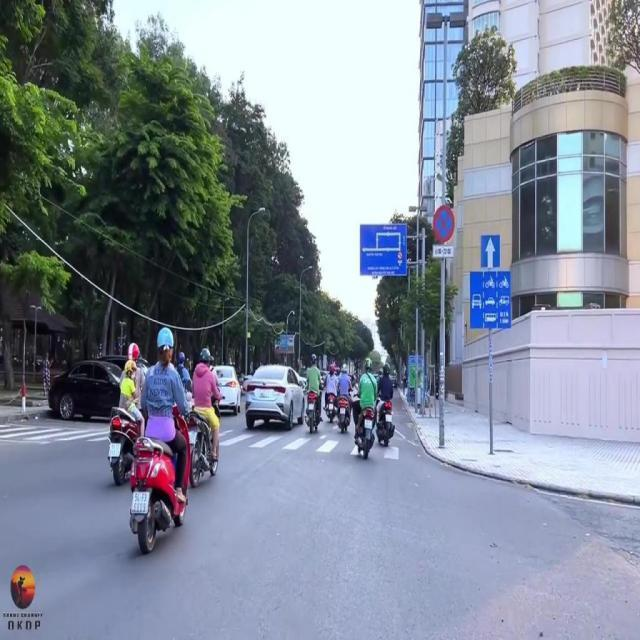130-cam-dung-va-do-xe: (432, 206, 456, 242)
407a-duong-mot-chieu: (480, 235, 500, 267)
